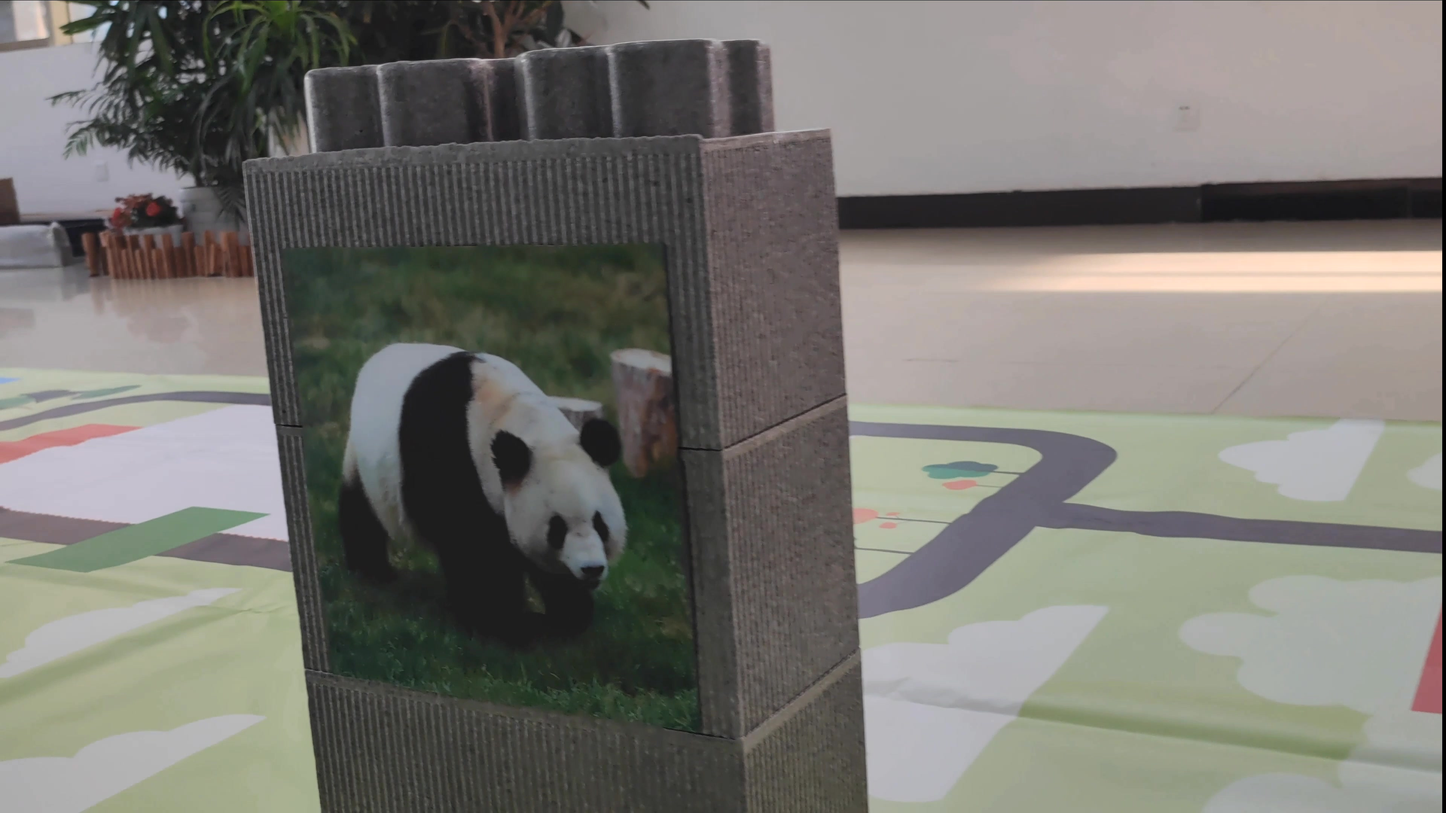panda: (331, 336, 650, 642)
